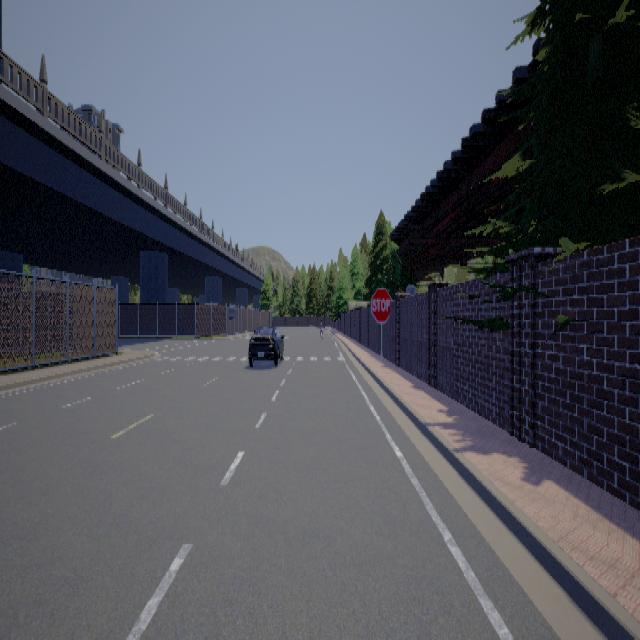traffic_sign: (370, 286, 391, 322)
vehicle: (247, 325, 284, 366)
